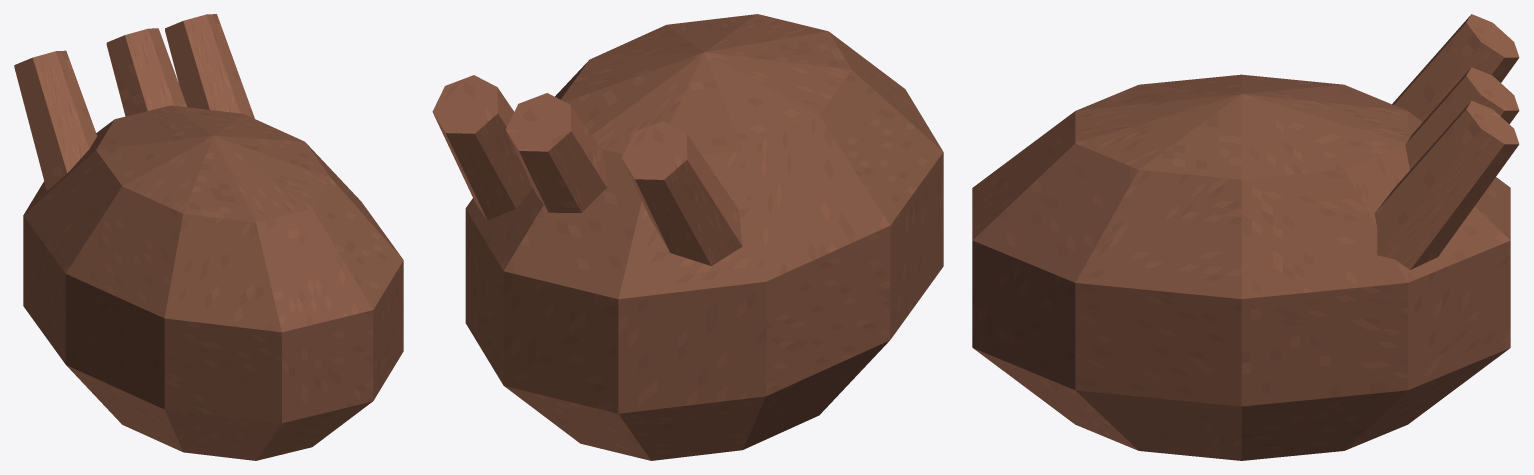
The model's file is fried_heart.glb.
3 renders of one model, left to right at view 1: azimuth 30°, elevation 25°; view 2: azimuth 150°, elevation 25°; view 3: azimuth 270°, elevation 25°, orthographic. The views are drawn at different scales.
Parts seen in each view (by area): view 1: block_muscular body, block_vessel (×3); view 2: block_muscular body, block_vessel (×3); view 3: block_muscular body, block_vessel (×3).
Part boxes in pixels (x1,y1,x2,y2): block_muscular body: (23, 105, 403, 460); block_vessel (×3): (14, 14, 254, 190); block_muscular body: (465, 14, 943, 460); block_vessel (×3): (432, 75, 742, 265); block_muscular body: (972, 74, 1510, 460); block_vessel (×3): (1374, 14, 1519, 269).
Bounding box in the file's own units: 0.0581 × 0.061 × 0.079.
Materials: 1 (1 with a texture image).
